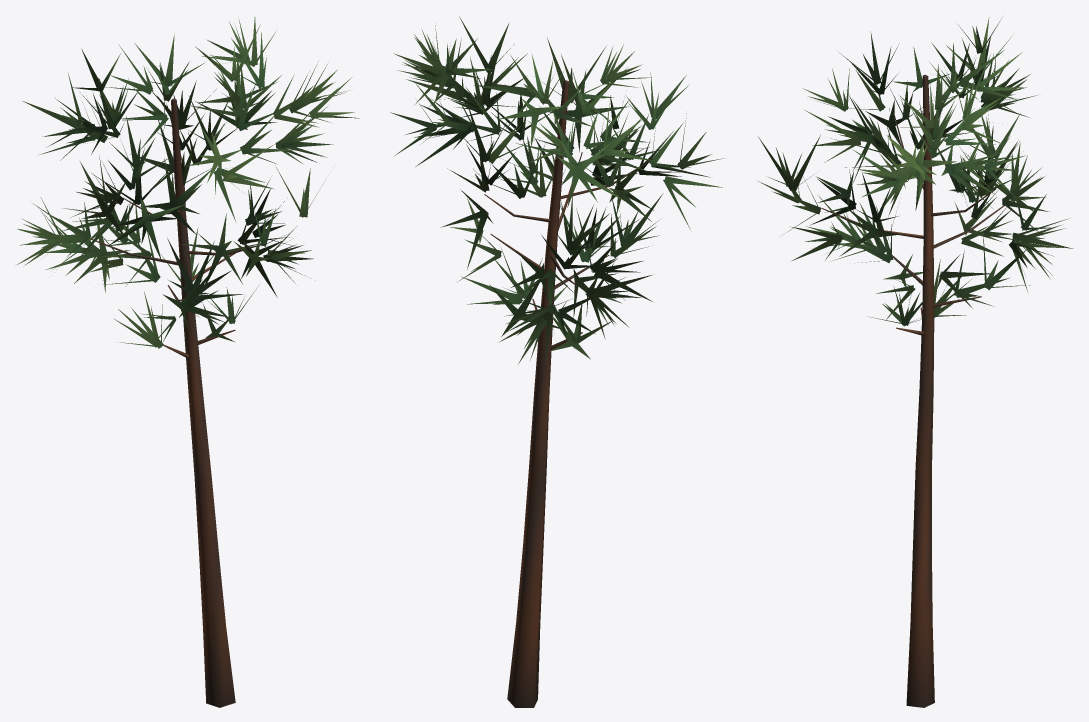
The model's file is pine-c.lod2.glb.
The picture shows the model from 3 angles, left to right: view 1: azimuth 30°, elevation 25°; view 2: azimuth 150°, elevation 25°; view 3: azimuth 270°, elevation 25°; orthographic projection. The views are drawn at different scales.
Bounding box in the file's own units: 7.03 × 15.09 × 6.66.
